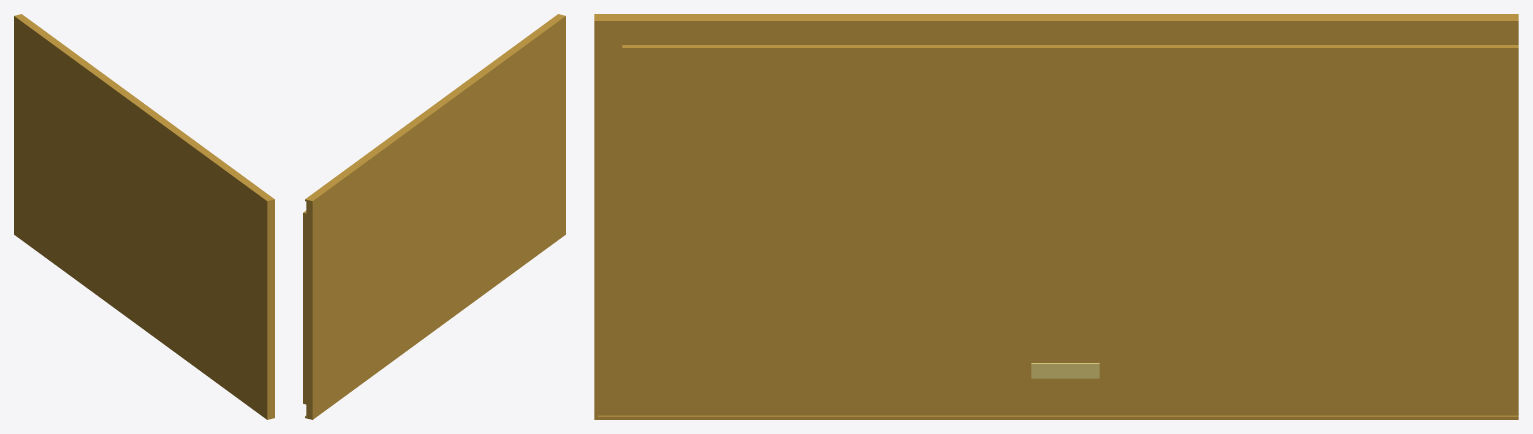
File: door_static.glb
3 views of the same model, side by side, from view 1: azimuth 30°, elevation 25°; view 2: azimuth 150°, elevation 25°; view 3: azimuth 270°, elevation 25° (orthographic). The views are drawn at different scales.
Parts seen in each view (by area): view 1: door_static; view 2: door_static; view 3: door_static.
Boxes of the visible parts, left/top/right/bottom form: door_static: left=14, top=14, right=274, bottom=419; door_static: left=303, top=14, right=565, bottom=419; door_static: left=594, top=14, right=1518, bottom=419.
Bounding box in the file's own units: 0.05 × 0.978 × 2.05.
